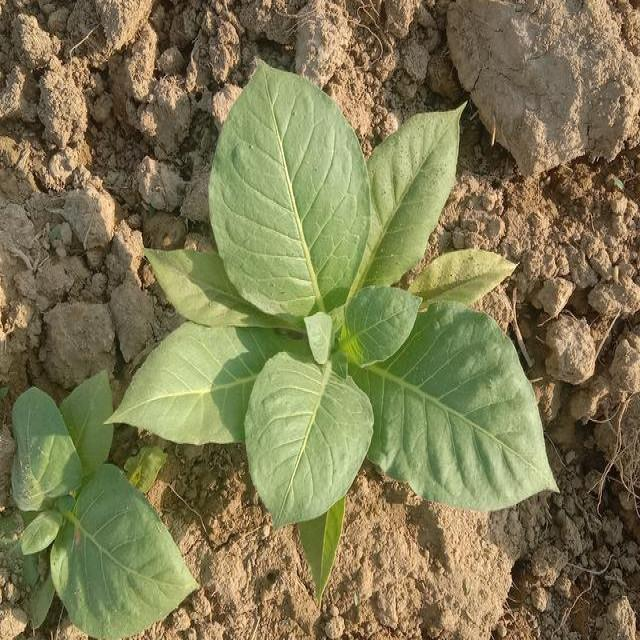crop: (100, 52, 562, 616)
